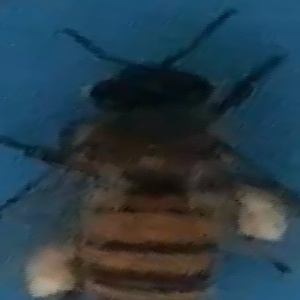bee: (8, 24, 293, 300)
